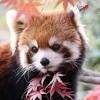redPanda: (12, 7, 87, 80)
